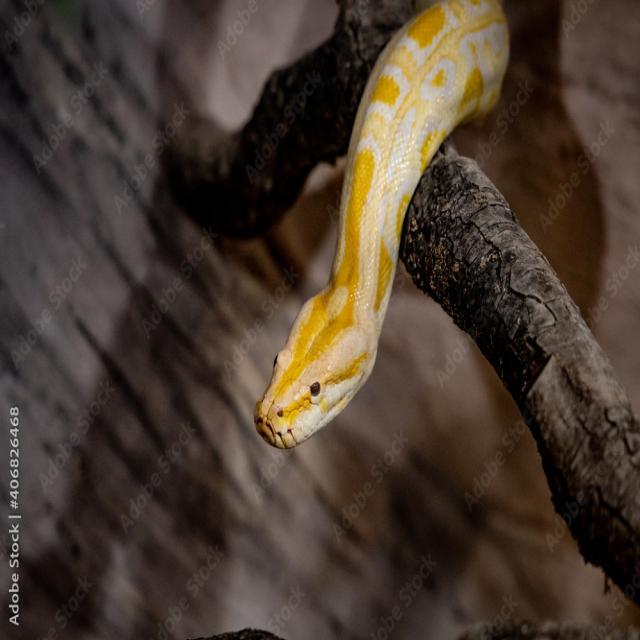Snake: (251, 0, 558, 491)
